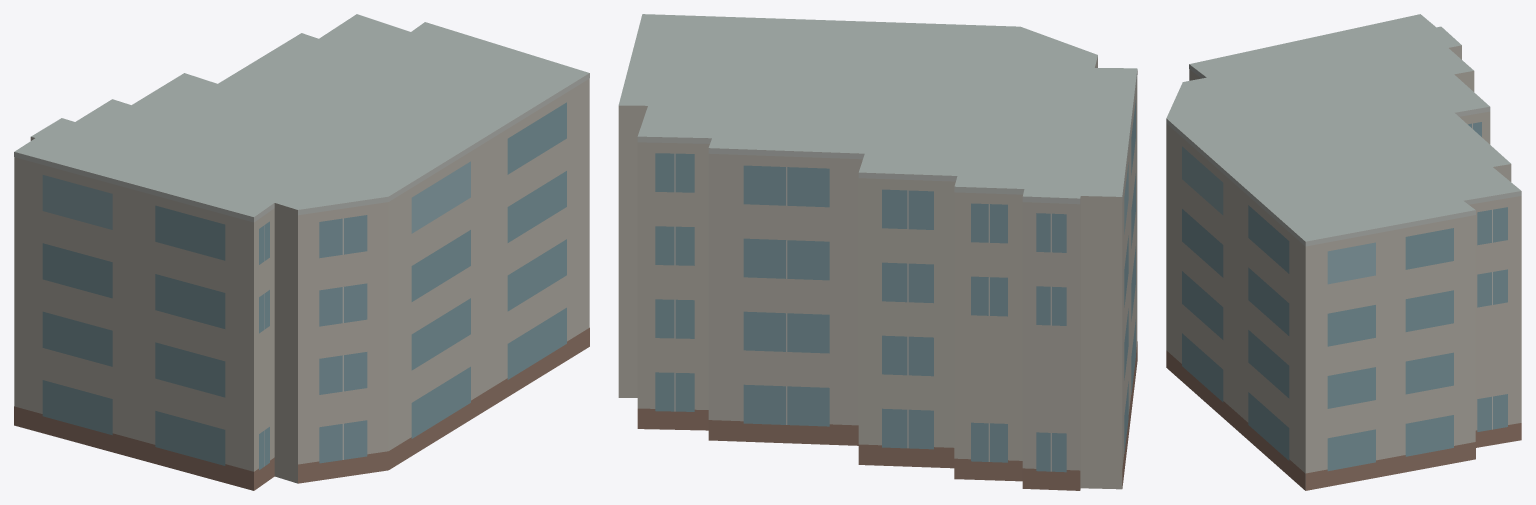
Rendered from survey-upis-33004004.glb.
The picture shows the model from 3 angles, left to right: view 1: azimuth 30°, elevation 25°; view 2: azimuth 150°, elevation 25°; view 3: azimuth 270°, elevation 25°; orthographic projection. The views are drawn at different scales.
Parts seen in each view (by area): view 1: survey-upis-33004004.tmp; view 2: survey-upis-33004004.tmp; view 3: survey-upis-33004004.tmp.
Boxes of the visible parts, box(x1,y1,x2,y2) form: survey-upis-33004004.tmp: box(14, 14, 589, 490); survey-upis-33004004.tmp: box(618, 14, 1137, 490); survey-upis-33004004.tmp: box(1166, 14, 1521, 490).
Size of the model in its own units: 24.5 by 12.5 by 16.16.
